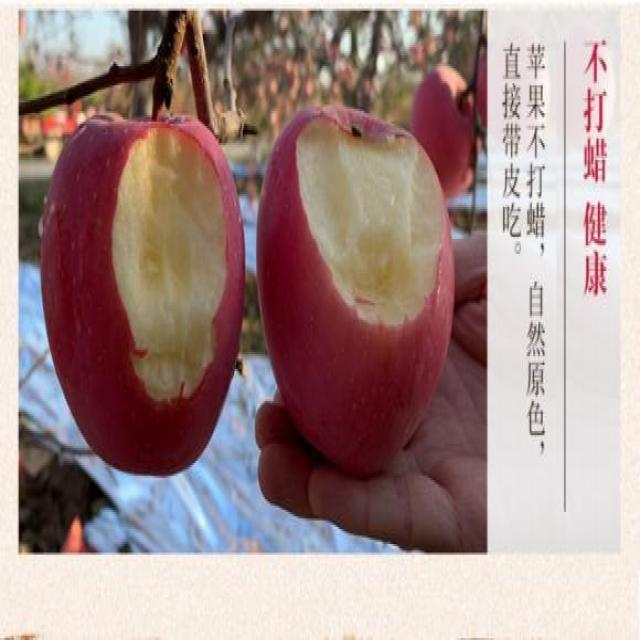Rotten: (251, 99, 460, 457), (56, 117, 248, 473)
